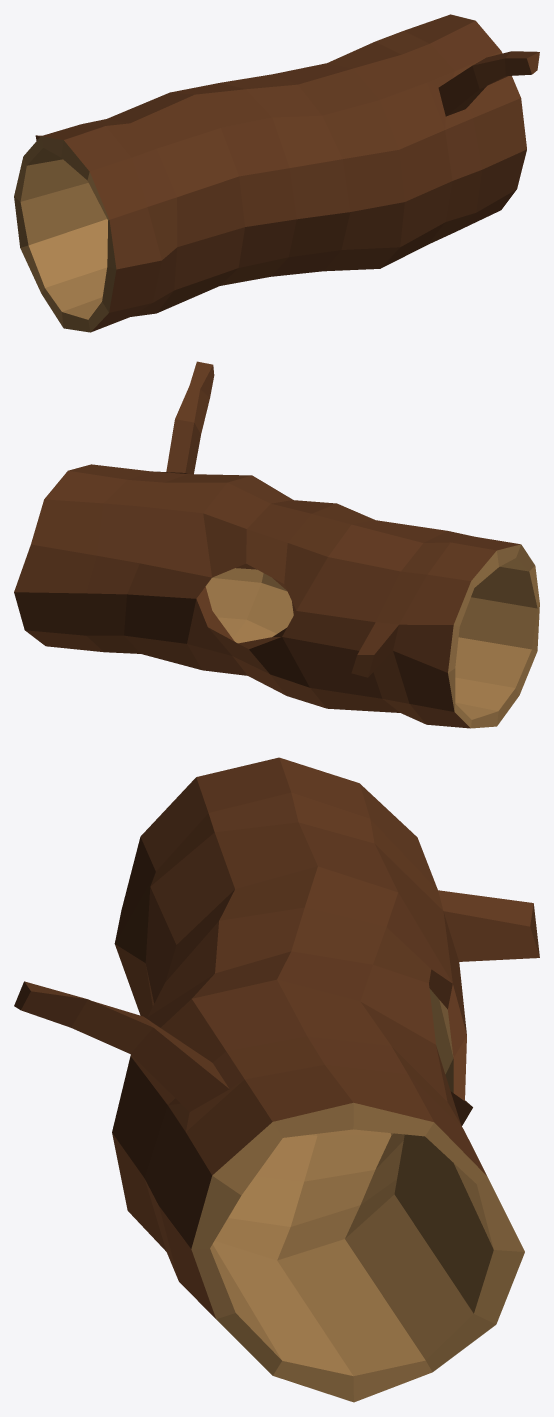
File: trunk.glb
The picture shows the model from 3 angles, top to bottom: view 1: azimuth 30°, elevation 25°; view 2: azimuth 150°, elevation 25°; view 3: azimuth 270°, elevation 25°; orthographic projection. The views are drawn at different scales.
Parts seen in each view (by area): view 1: Cylinder.004; view 2: Cylinder.004; view 3: Cylinder.004.
Boxes of the visible parts, x1,y1,x2,y2 form: Cylinder.004: (14, 14, 539, 332); Cylinder.004: (14, 361, 539, 728); Cylinder.004: (14, 757, 539, 1402).
Bounding box in the file's own units: 5.03 × 2.58 × 3.23.
